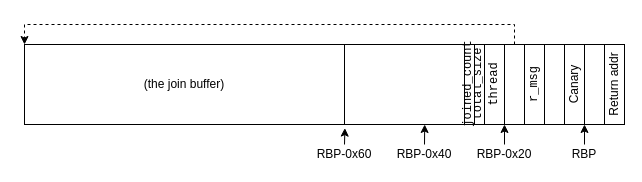
Some shapes in this 642 by 182 pixel diagram are drawn without their labels. The shapes that lost their labels are listed below. From the top down, each one's centre as x and y in pixels, then its label:
the point at 514,84: join_buf
the point at 594,84: Saved RBP
